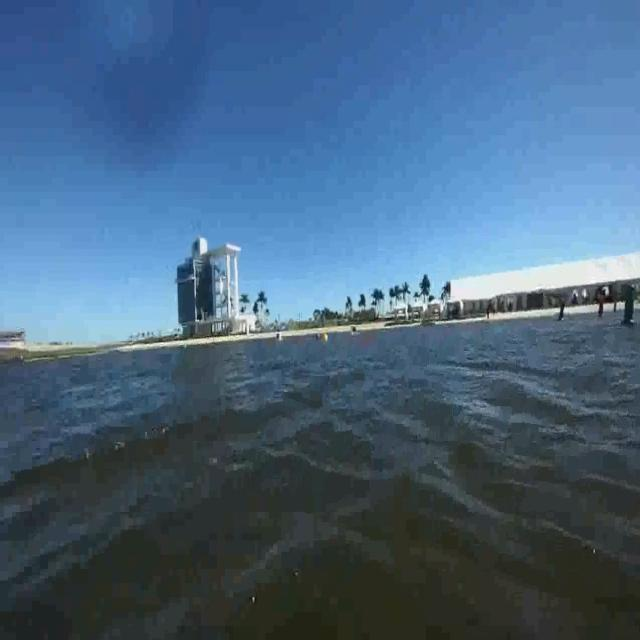green-column-buoy: (620, 284, 639, 329)
yellow-buoy: (322, 334, 328, 344)
